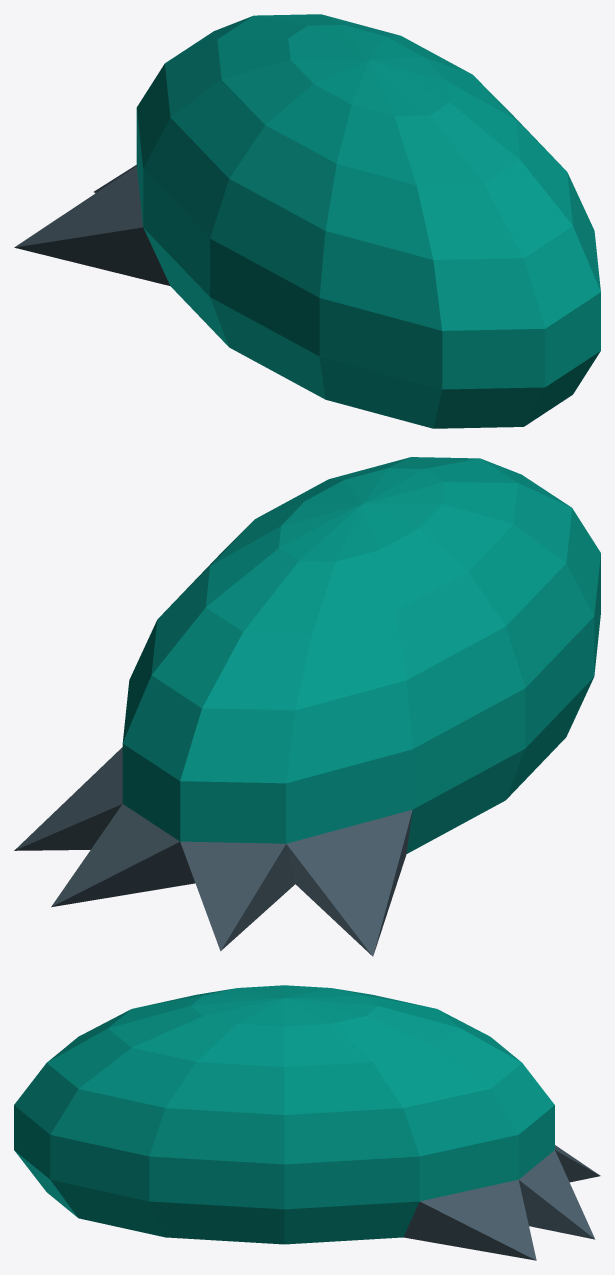
Rendered from n5_n5_group1949319646_lev5.glb.
The picture shows the model from 3 angles, top to bottom: view 1: azimuth 30°, elevation 25°; view 2: azimuth 150°, elevation 25°; view 3: azimuth 270°, elevation 25°; orthographic projection. The views are drawn at different scales.
Parts seen in each view (by area): view 1: n5_n5_group1949319646_lev5; view 2: n5_n5_group1949319646_lev5; view 3: n5_n5_group1949319646_lev5.
Boxes of the visible parts, <box> form: n5_n5_group1949319646_lev5: <box>14,14,600,428</box>; n5_n5_group1949319646_lev5: <box>14,457,600,956</box>; n5_n5_group1949319646_lev5: <box>14,985,600,1260</box>.
Bounding box in the file's own units: 1.92 × 1.38 × 3.57.
